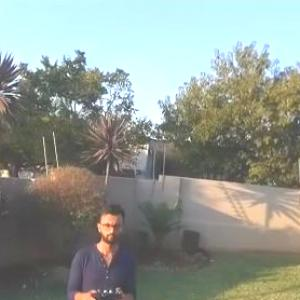follow: (62, 200, 142, 299)
